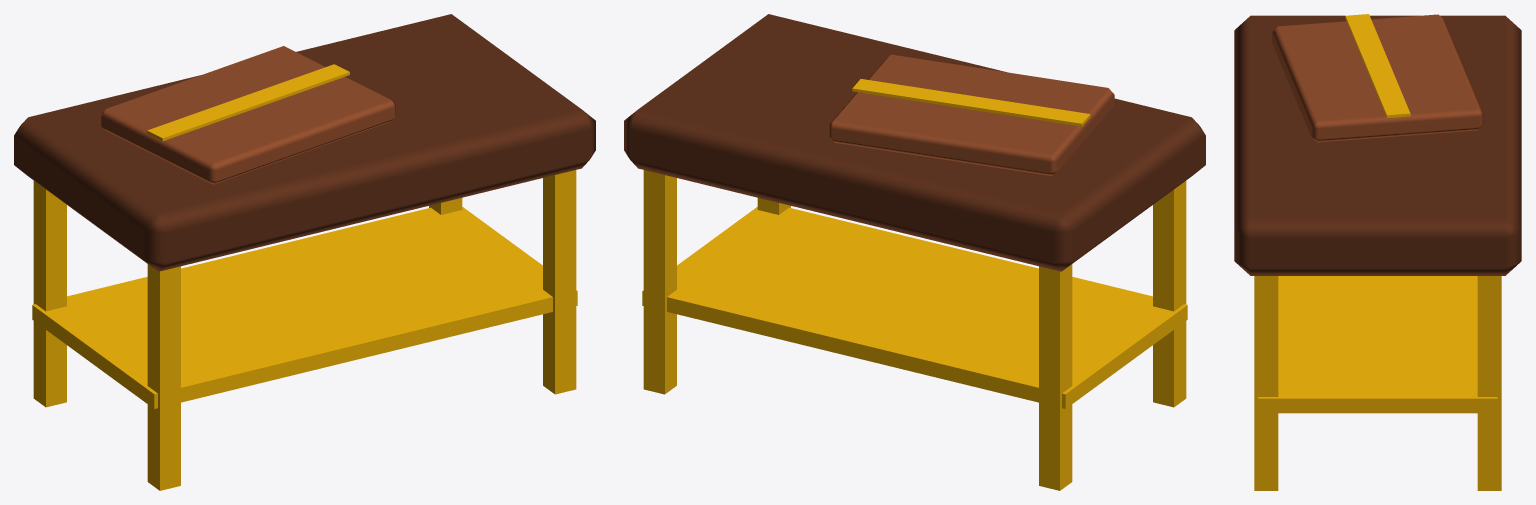
The model's file is station_processing_ausstattung_2_0.glb.
3 views of the same model, side by side, from view 1: azimuth 30°, elevation 25°; view 2: azimuth 150°, elevation 25°; view 3: azimuth 270°, elevation 25° (orthographic). The views are drawn at different scales.
Visible parts, largest first — view 1: station_processing_ausstattung_2_0; view 2: station_processing_ausstattung_2_0; view 3: station_processing_ausstattung_2_0.
Boxes of the visible parts, <box> form: station_processing_ausstattung_2_0: <box>14,14,595,490</box>; station_processing_ausstattung_2_0: <box>624,14,1205,490</box>; station_processing_ausstattung_2_0: <box>1234,14,1521,490</box>.
Size of the model in its own units: 0.64 by 0.415 by 0.36.
